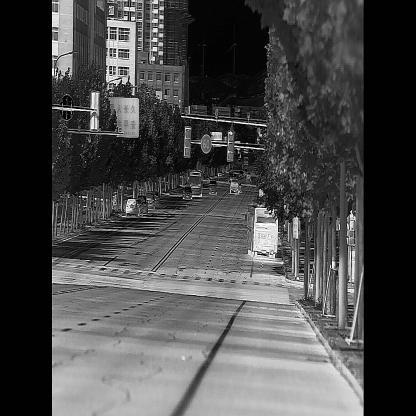car: (244, 196, 280, 259), (189, 168, 204, 198), (123, 195, 139, 218), (134, 194, 146, 218), (145, 189, 155, 210), (182, 182, 193, 201), (229, 177, 239, 196), (208, 178, 218, 196), (151, 188, 160, 207), (237, 181, 242, 195), (217, 168, 223, 179), (243, 156, 249, 167), (245, 170, 251, 181), (228, 170, 233, 183), (238, 169, 244, 179), (244, 167, 249, 176)
